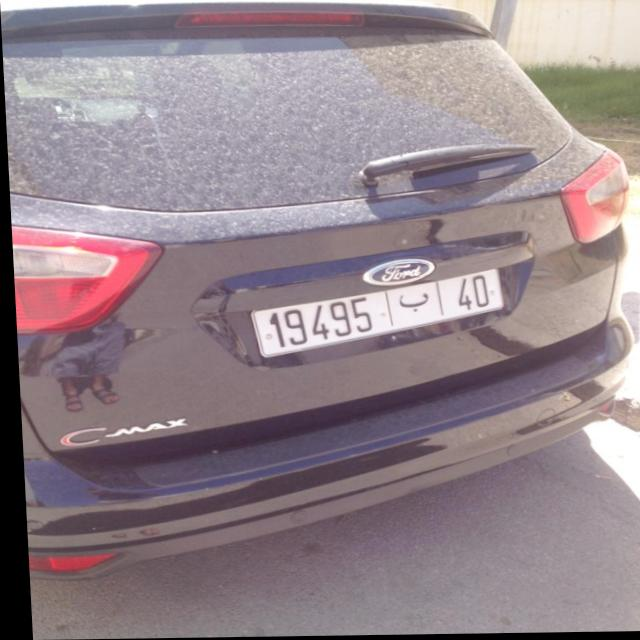License-Plate: (248, 271, 499, 358)
